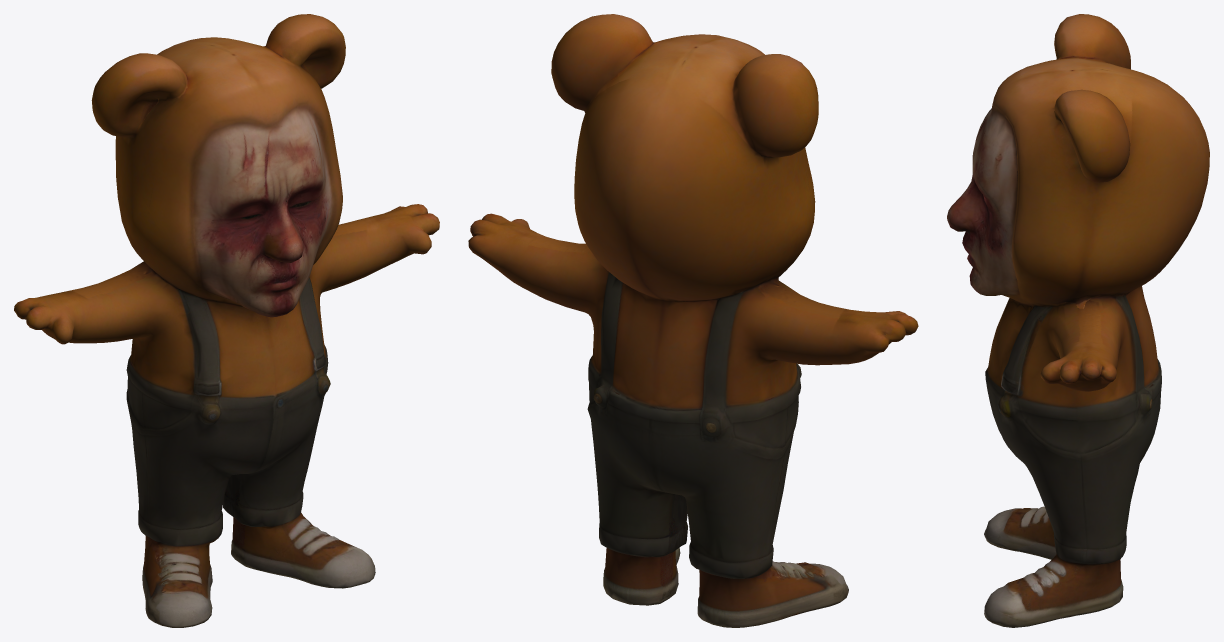
The model's file is Unsettling_Bear_Prese_1112213136_texture.fbx.
3 views of the same model, side by side, from view 1: azimuth 30°, elevation 25°; view 2: azimuth 150°, elevation 25°; view 3: azimuth 270°, elevation 25° (orthographic). The views are drawn at different scales.
Visible parts, largest first — view 1: input; view 2: input; view 3: input.
Boxes of the visible parts, box(x1,y1,x2,y2) form: input: box(14, 14, 439, 627); input: box(468, 14, 918, 627); input: box(947, 14, 1209, 627).
Size of the model in its own units: 162 by 201 by 92.09.
Materials: 1 (1 with a texture image).
